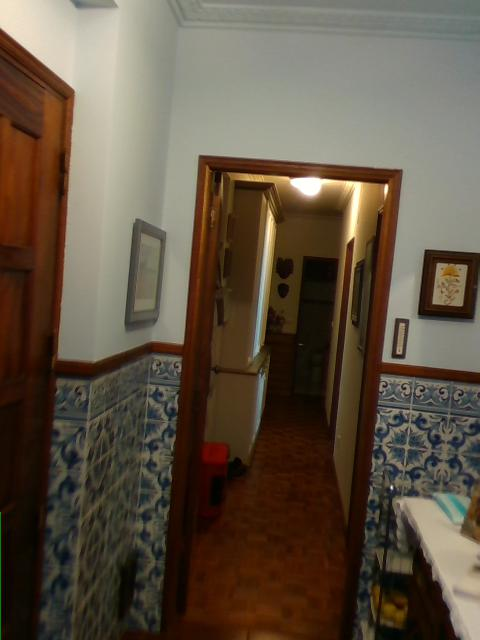door: (1, 45, 66, 640)
